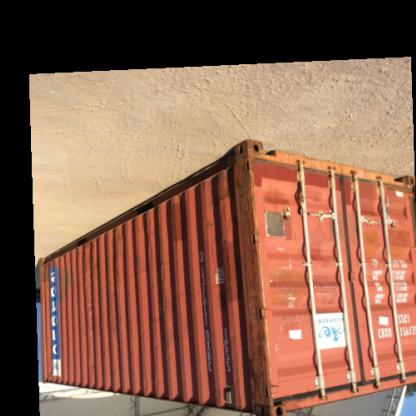Damage: (245, 304, 280, 400), (232, 159, 264, 253), (78, 298, 98, 350), (108, 228, 124, 282), (130, 340, 180, 356), (155, 251, 169, 292), (204, 202, 214, 236)
